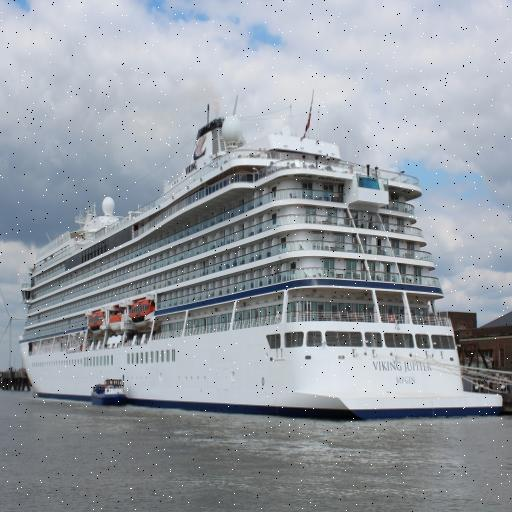cruises: (17, 89, 505, 431)
